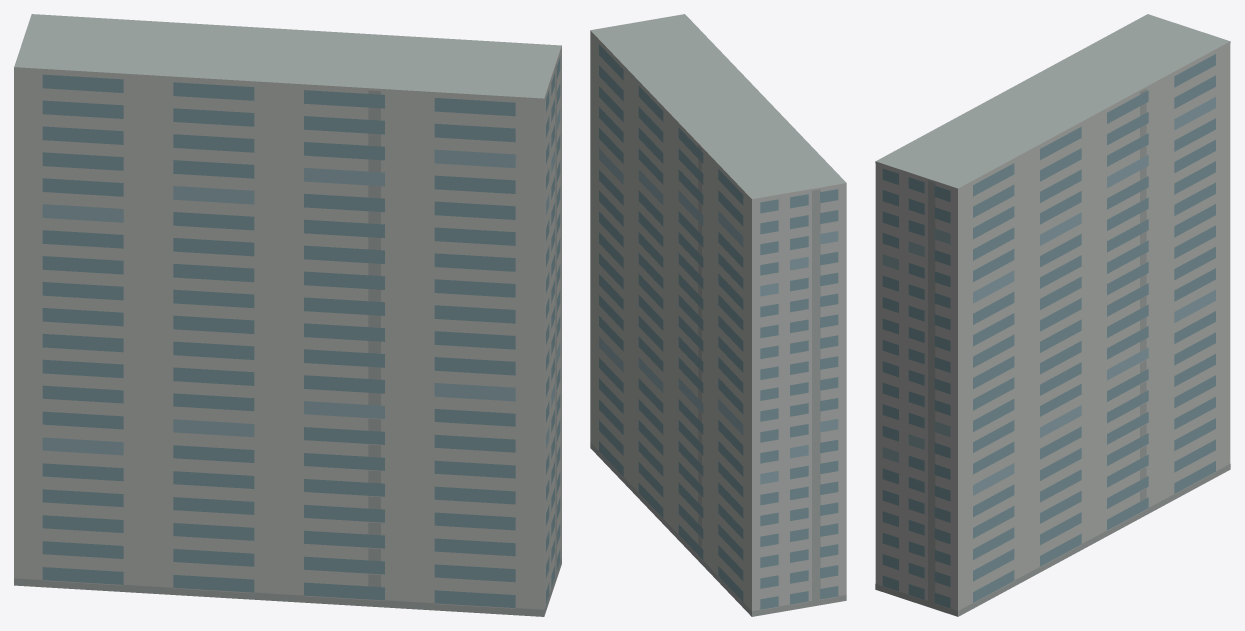
Rendered from residential-ed1c9278-7e6c-44c6-b8d3-d49dec7e911c.glb.
3 views of the same model, side by side, from view 1: azimuth 30°, elevation 25°; view 2: azimuth 150°, elevation 25°; view 3: azimuth 270°, elevation 25° (orthographic). The views are drawn at different scales.
Parts seen in each view (by area): view 1: residential-ed1c9278-7e6c-44c6-b8d3-d49dec7e911c.tmp; view 2: residential-ed1c9278-7e6c-44c6-b8d3-d49dec7e911c.tmp; view 3: residential-ed1c9278-7e6c-44c6-b8d3-d49dec7e911c.tmp.
Boxes of the visible parts, x1=… form: residential-ed1c9278-7e6c-44c6-b8d3-d49dec7e911c.tmp: x1=14, y1=14, x2=561, y2=616; residential-ed1c9278-7e6c-44c6-b8d3-d49dec7e911c.tmp: x1=590, y1=14, x2=846, y2=616; residential-ed1c9278-7e6c-44c6-b8d3-d49dec7e911c.tmp: x1=875, y1=14, x2=1230, y2=616.
Size of the model in its own units: 47.21 by 54 by 40.56.
